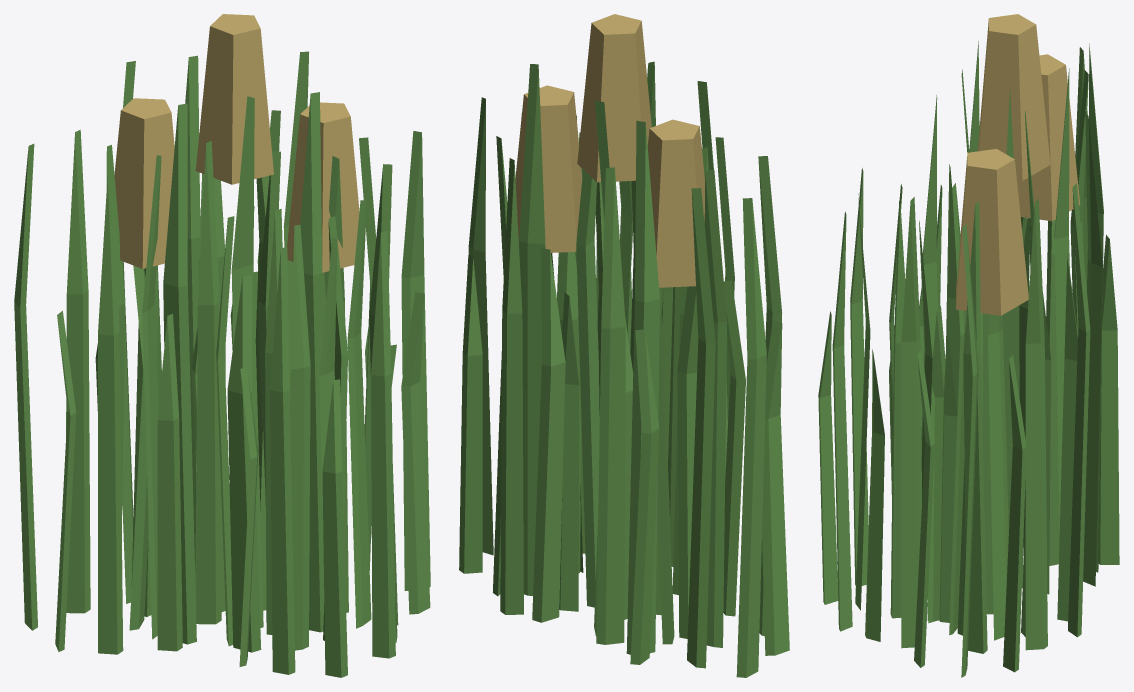
File: soil_herb_quaternius_growing.glb
3 renders of one model, left to right at view 1: azimuth 30°, elevation 25°; view 2: azimuth 150°, elevation 25°; view 3: azimuth 270°, elevation 25°, orthographic. The views are drawn at different scales.
Parts seen in each view (by area): view 1: GrowingBlade01, GrowingBlade03, GrowingBlade00, GrowingBlade02, GrowingSeedHead00, GrowingSeedHead01, GrowingSeedHead02; view 2: GrowingBlade01, GrowingBlade00, GrowingBlade02, GrowingSeedHead00, GrowingSeedHead01, GrowingSeedHead02, GrowingBlade03; view 3: GrowingBlade02, GrowingBlade03, GrowingBlade00, GrowingBlade01, GrowingSeedHead02, GrowingSeedHead00, GrowingSeedHead01.
Part boxes in pixels (<box>): GrowingBlade01: <box>14,129,221,654</box>; GrowingBlade03: <box>216,200,397,677</box>; GrowingBlade00: <box>122,51,326,652</box>; GrowingBlade02: <box>254,110,430,625</box>; GrowingSeedHead00: <box>195,14,273,184</box>; GrowingSeedHead01: <box>114,98,174,268</box>; GrowingSeedHead02: <box>287,102,359,272</box>; GrowingBlade01: <box>596,147,789,677</box>; GrowingBlade00: <box>519,61,713,654</box>; GrowingBlade02: <box>459,97,604,614</box>; GrowingSeedHead00: <box>577,14,651,182</box>; GrowingSeedHead01: <box>647,119,704,287</box>; GrowingSeedHead02: <box>515,85,582,252</box>; GrowingBlade03: <box>575,132,734,595</box>; GrowingBlade02: <box>901,183,1090,677</box>; GrowingBlade03: <box>818,164,960,641</box>; GrowingBlade00: <box>919,41,1103,636</box>; GrowingBlade01: <box>964,47,1119,594</box>; GrowingSeedHead02: <box>956,149,1028,315</box>; GrowingSeedHead00: <box>977,14,1050,180</box>; GrowingSeedHead01: <box>1017,54,1080,221</box>.
Size of the model in its own units: 0.3344 by 0.5326 by 0.253.
